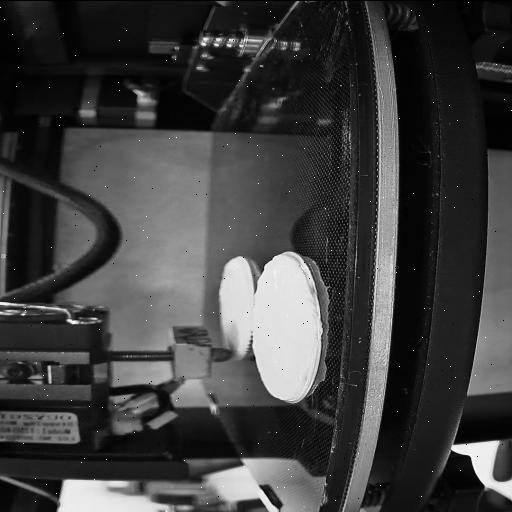over_extrusion: (275, 252, 307, 266)
